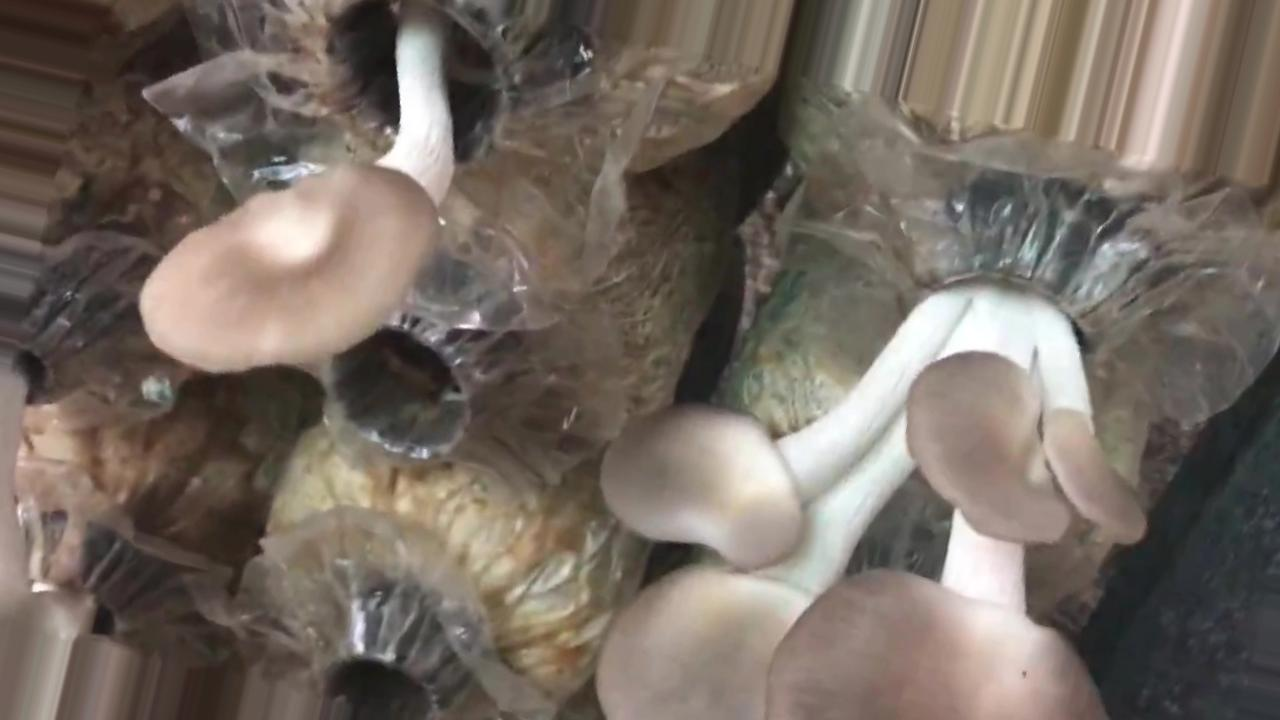nam: (596, 185, 1149, 720), (137, 1, 531, 373)
